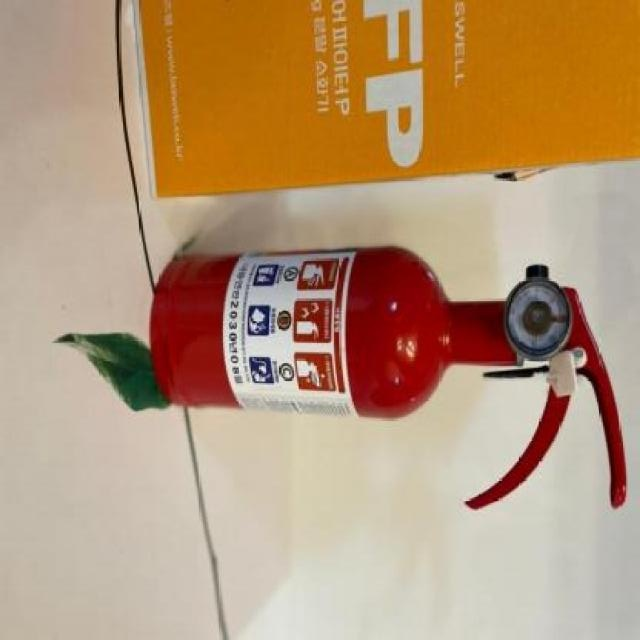fire extinguisher: (150, 245, 628, 511)
